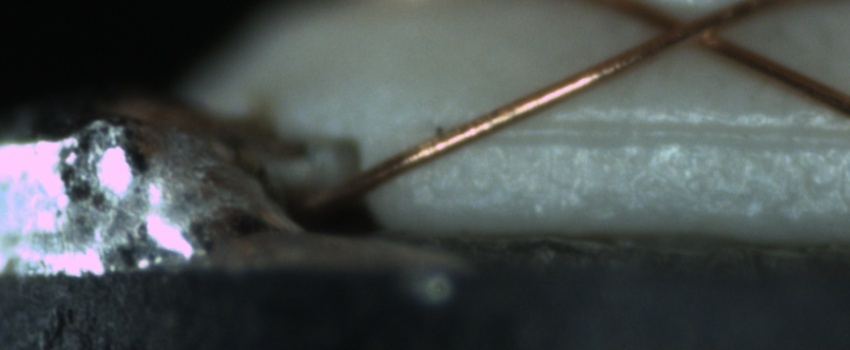CL: (643, 2, 739, 56)
DL: (440, 100, 850, 164)
